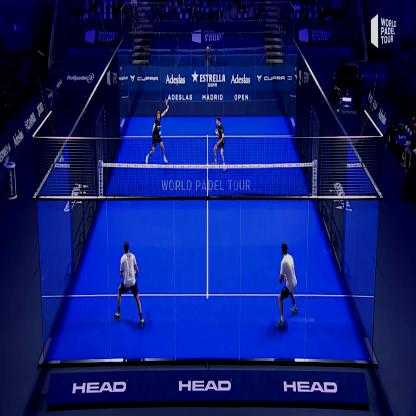ball: (157, 126, 163, 137)
